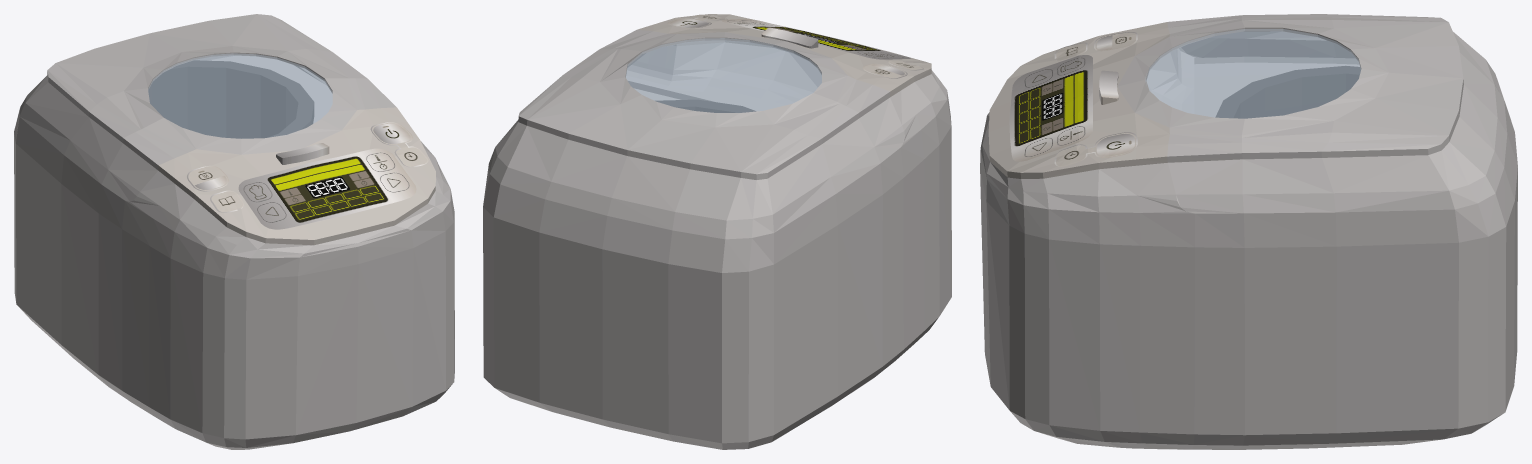
The model's file is sweethome3d-scopia-cooker-363.glb.
3 views of the same model, side by side, from view 1: azimuth 30°, elevation 25°; view 2: azimuth 150°, elevation 25°; view 3: azimuth 270°, elevation 25° (orthographic). The views are drawn at different scales.
Visible parts, largest first — view 1: Base_Cube, sweethome3d_opening_on_hinge_1_top, sweethome3d_opening_on_hinge_1_glass, pot_Circle, Controls_Plane, Controls2_Plane.002, Button_Plane.001; view 2: Base_Cube, sweethome3d_opening_on_hinge_1_top, sweethome3d_opening_on_hinge_1_glass, Controls_Plane, Controls2_Plane.002, pot_Circle, Button_Plane.001; view 3: Base_Cube, sweethome3d_opening_on_hinge_1_top, sweethome3d_opening_on_hinge_1_glass, Controls_Plane, pot_Circle, Controls2_Plane.002, Button_Plane.001.
Boxes of the visible parts, x1,y1,x2,y2 form: Base_Cube: (14, 56, 454, 449); sweethome3d_opening_on_hinge_1_top: (19, 14, 396, 201); sweethome3d_opening_on_hinge_1_glass: (148, 53, 332, 138); pot_Circle: (148, 60, 313, 138); Controls_Plane: (238, 148, 416, 229); Controls2_Plane.002: (186, 122, 428, 212); Button_Plane.001: (276, 143, 329, 164); Base_Cube: (483, 14, 951, 449); sweethome3d_opening_on_hinge_1_top: (489, 29, 904, 239); sweethome3d_opening_on_hinge_1_glass: (626, 38, 821, 112); Controls_Plane: (722, 18, 910, 59); Controls2_Plane.002: (667, 14, 923, 78); pot_Circle: (656, 100, 755, 112); Button_Plane.001: (761, 27, 818, 48); Base_Cube: (980, 22, 1517, 449); sweethome3d_opening_on_hinge_1_top: (1117, 14, 1504, 213); sweethome3d_opening_on_hinge_1_glass: (1145, 29, 1360, 118); Controls_Plane: (1009, 55, 1092, 161); pot_Circle: (1215, 66, 1360, 118); Controls2_Plane.002: (1054, 31, 1137, 166); Button_Plane.001: (1099, 70, 1118, 104).
Bounding box in the file's own units: 28.94 × 27.06 × 39.98.
Materials: 6 (2 with a texture image).
